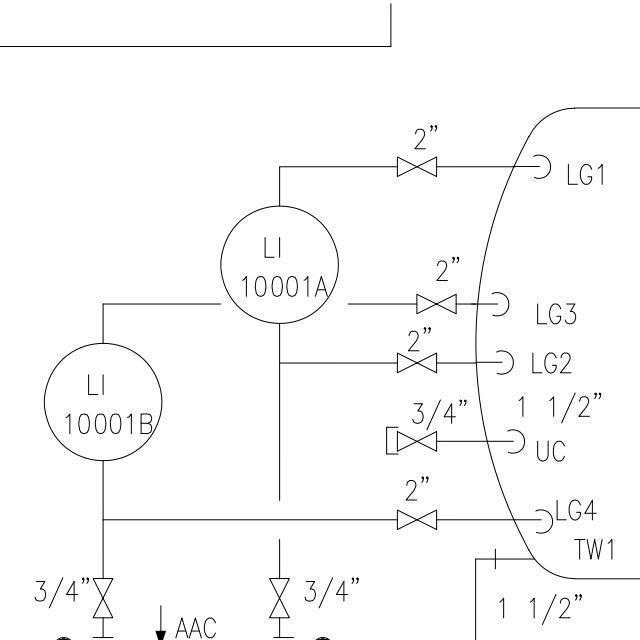EC: (382, 419, 455, 457)
GV: (409, 287, 462, 319), (86, 572, 119, 623), (265, 570, 295, 623), (393, 347, 443, 378), (392, 153, 448, 180), (393, 505, 443, 532), (394, 430, 440, 452)
